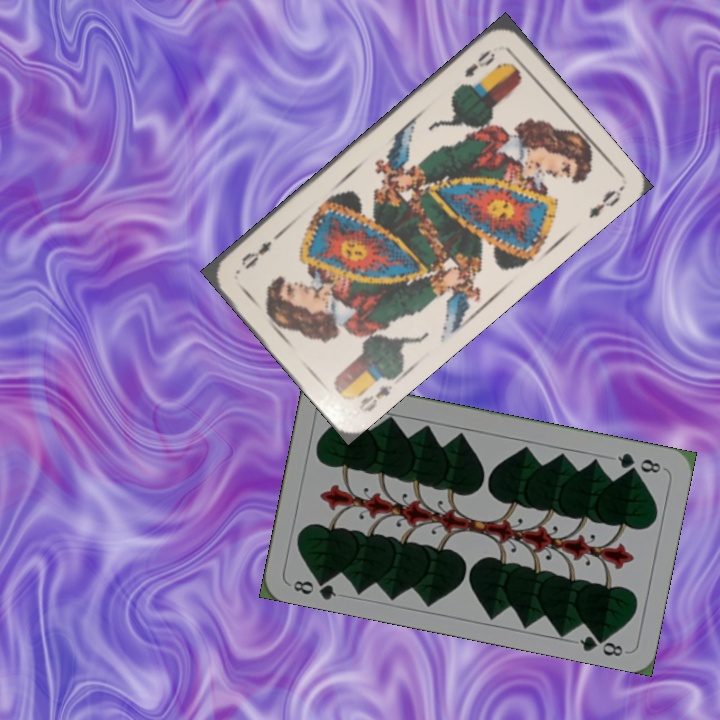EO: (354, 381, 395, 415), (460, 46, 498, 80)
G8: (289, 572, 339, 603), (613, 449, 664, 476)
